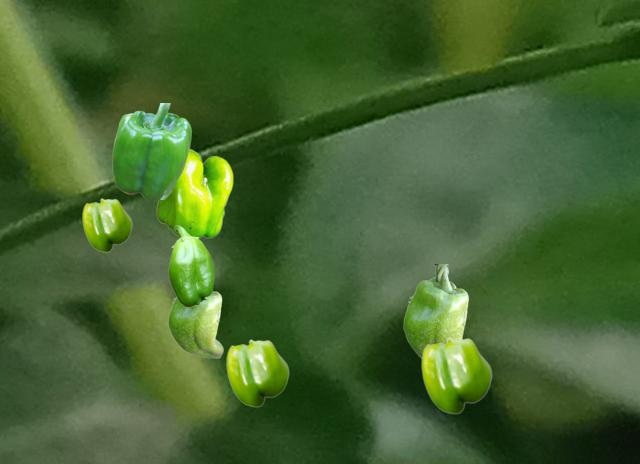bell_pepper: (112, 103, 190, 198), (156, 148, 232, 238), (403, 264, 469, 358), (421, 337, 491, 413), (226, 339, 288, 406), (168, 225, 213, 306), (168, 290, 222, 357), (82, 198, 131, 251)
